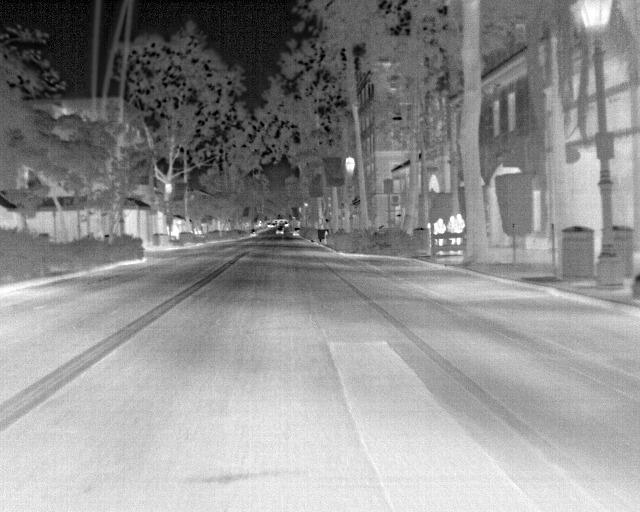empty: (431, 216, 447, 236), (444, 214, 458, 232), (454, 212, 466, 231)
